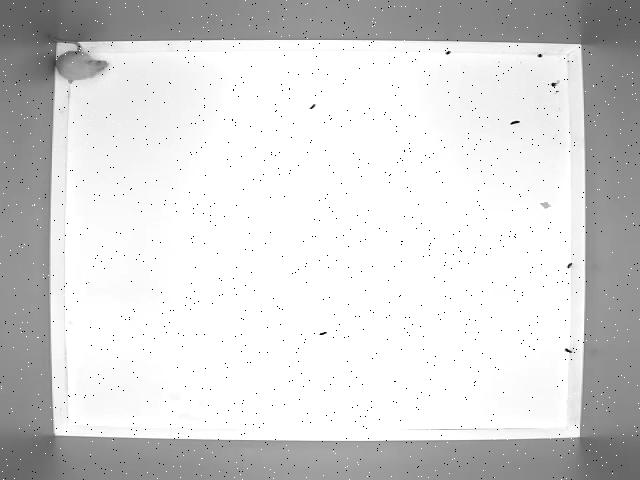Tikus: (41, 28, 112, 86)
